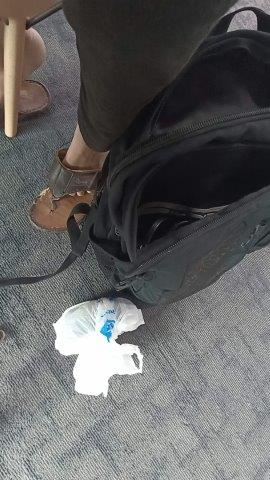plastik: (54, 298, 144, 396)
